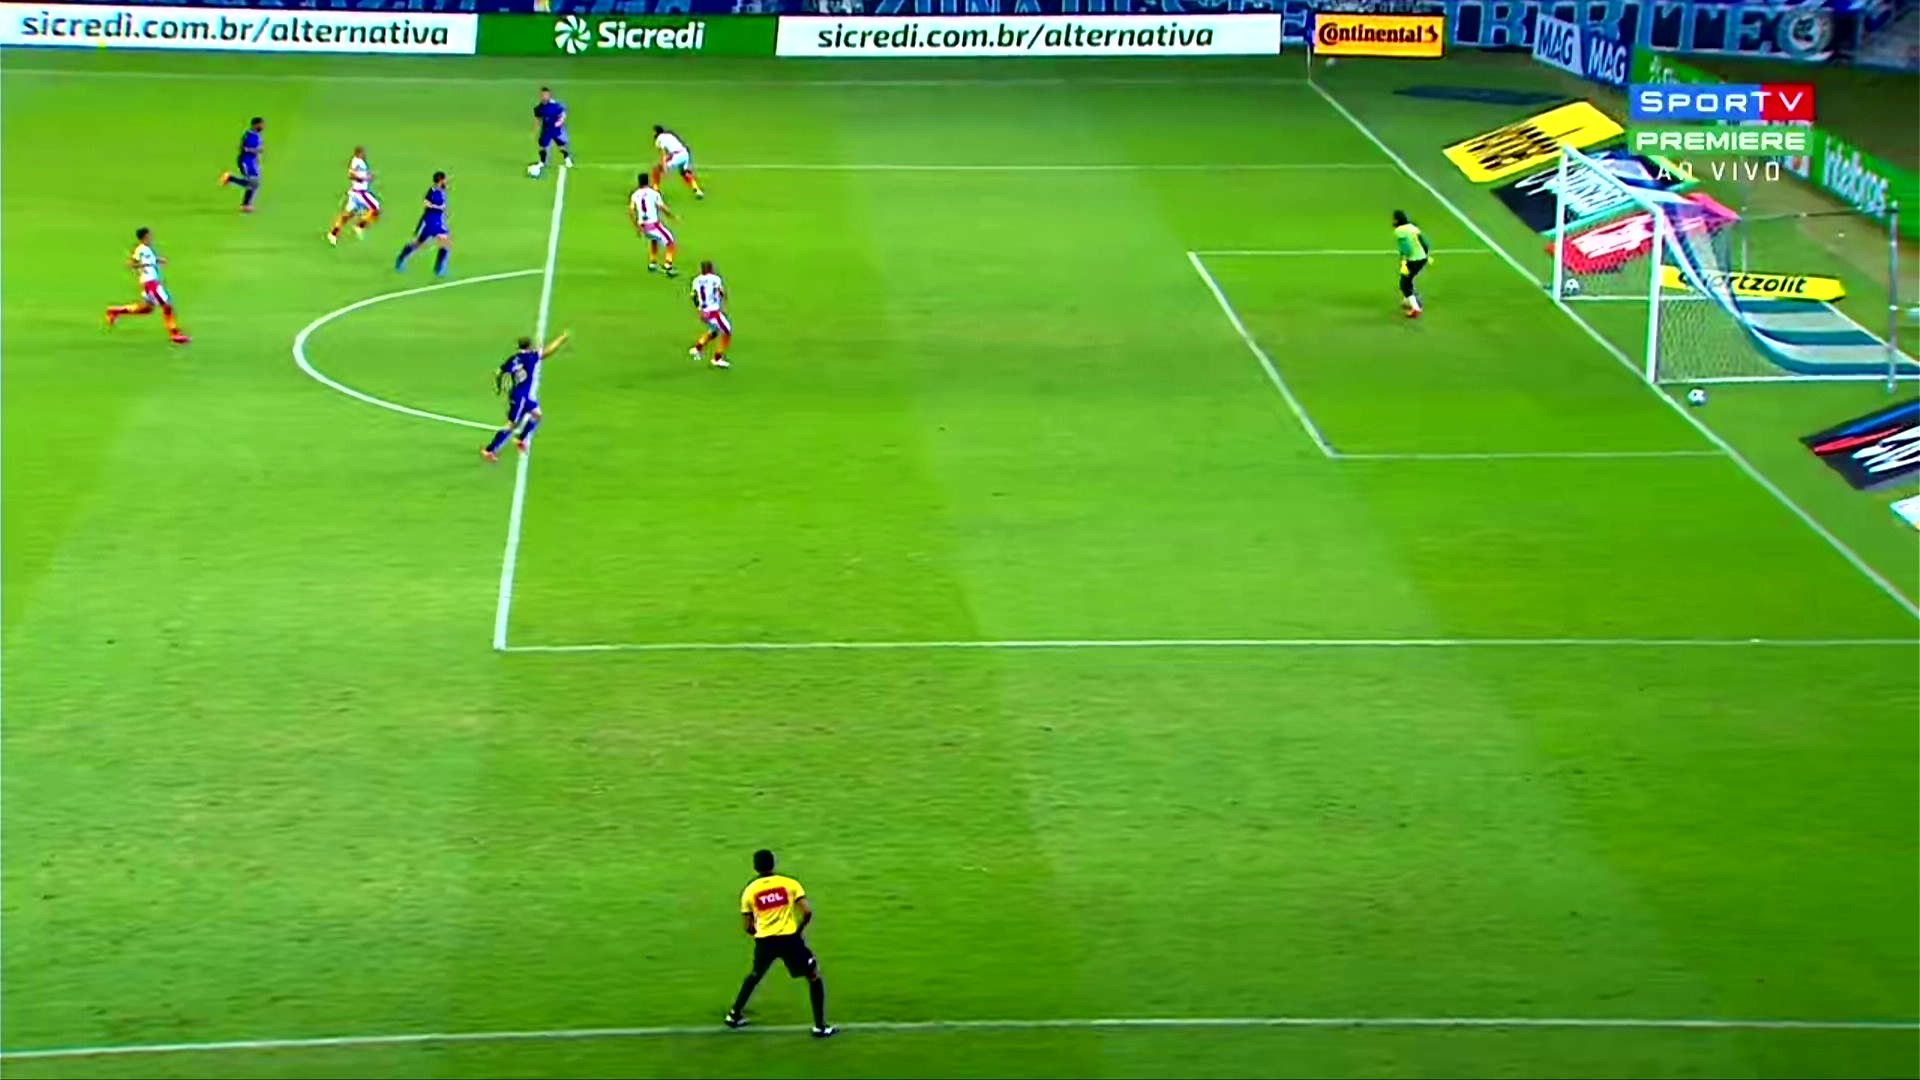SporTV: (1629, 86, 1811, 120)
